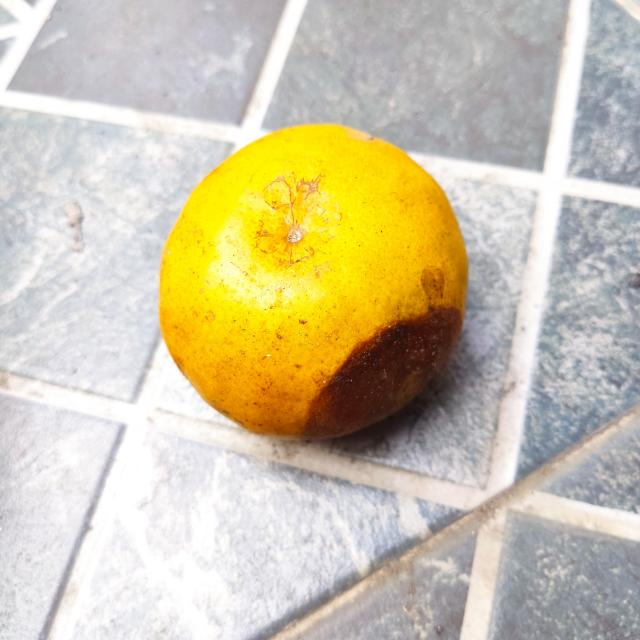orange: (152, 120, 472, 444)
